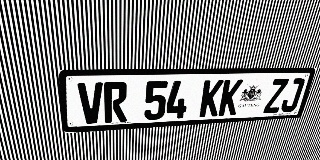4: (165, 80, 190, 119)
5: (144, 81, 168, 120)
J: (279, 78, 306, 112)
K: (199, 80, 224, 117), (218, 79, 243, 116)
R: (103, 82, 127, 123)
V: (77, 82, 104, 124)
Z: (263, 78, 289, 113)
